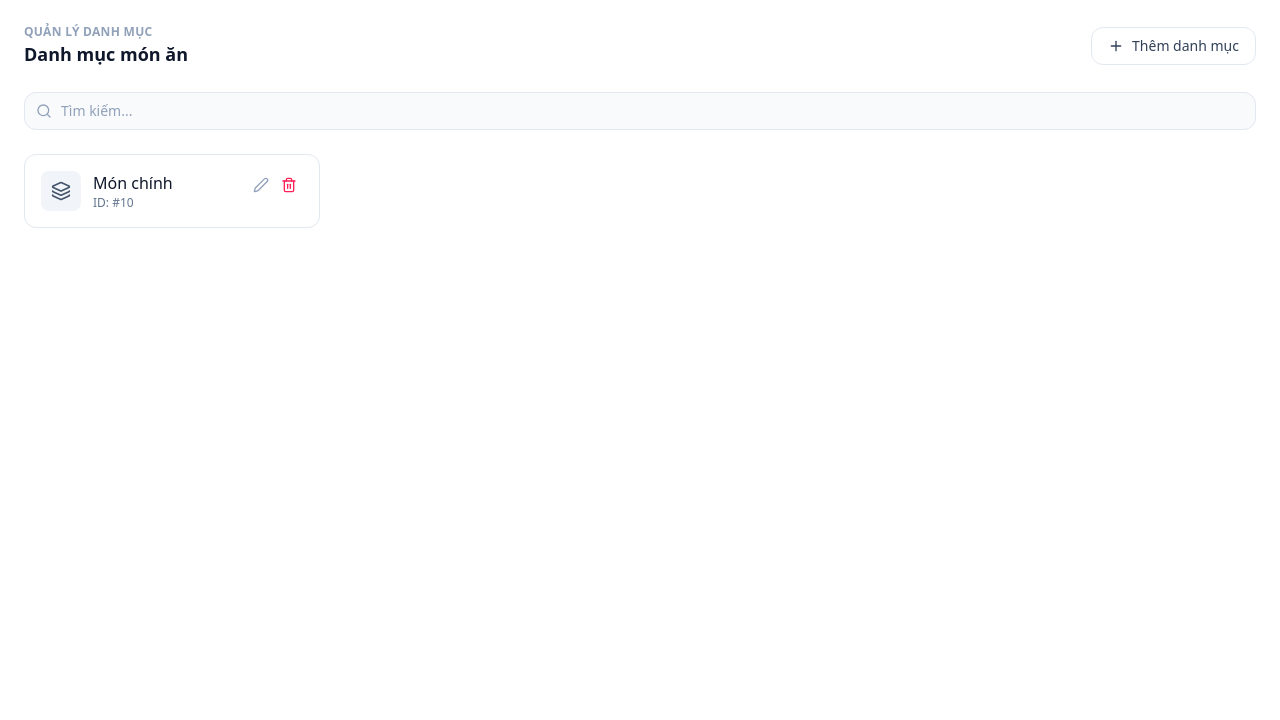
Test case: Integration: Tenant Category Page Flow › deletes a category after confirmation
Expected: the heading "Món chính" is shown, [93,171,173,195]
Click the button titled "Xóa danh mục".
click(289, 185)  # box [275,171,303,199]
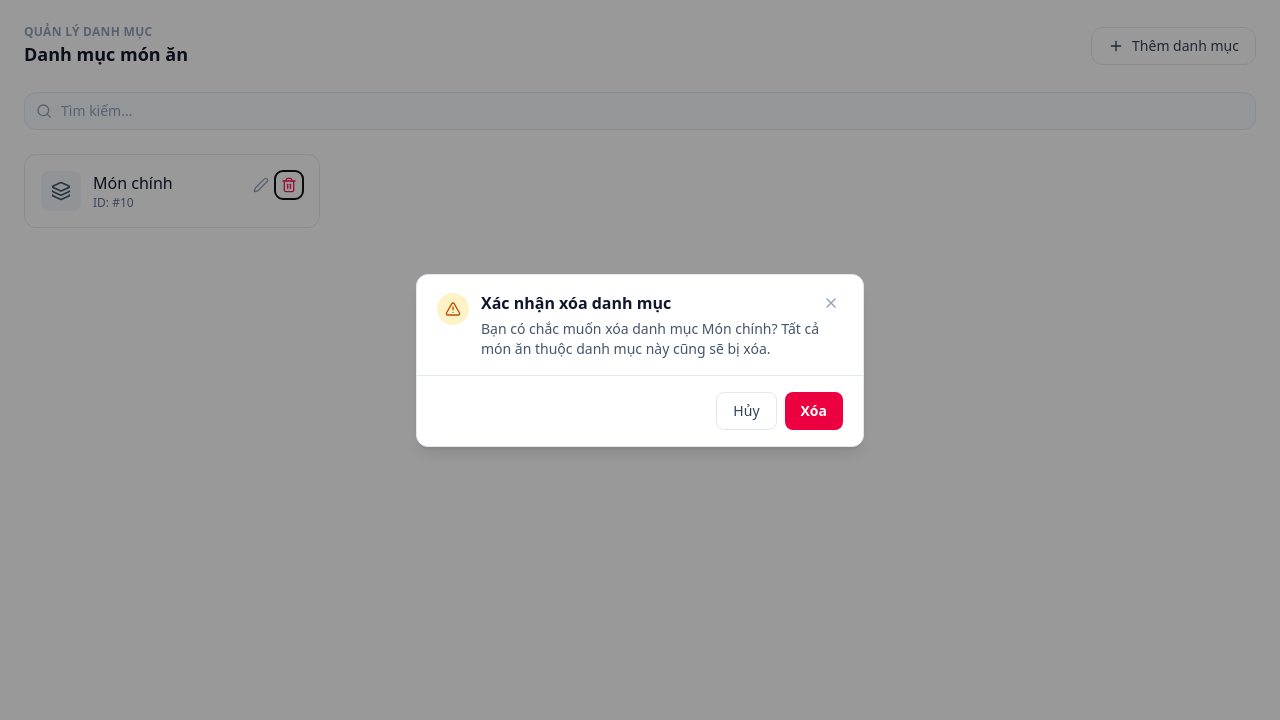
Expected: the heading "Xác nhận xóa danh mục" is shown, [481,292,671,314]
Click the button "Xóa".
click(814, 410)  # box [784,392,843,430]
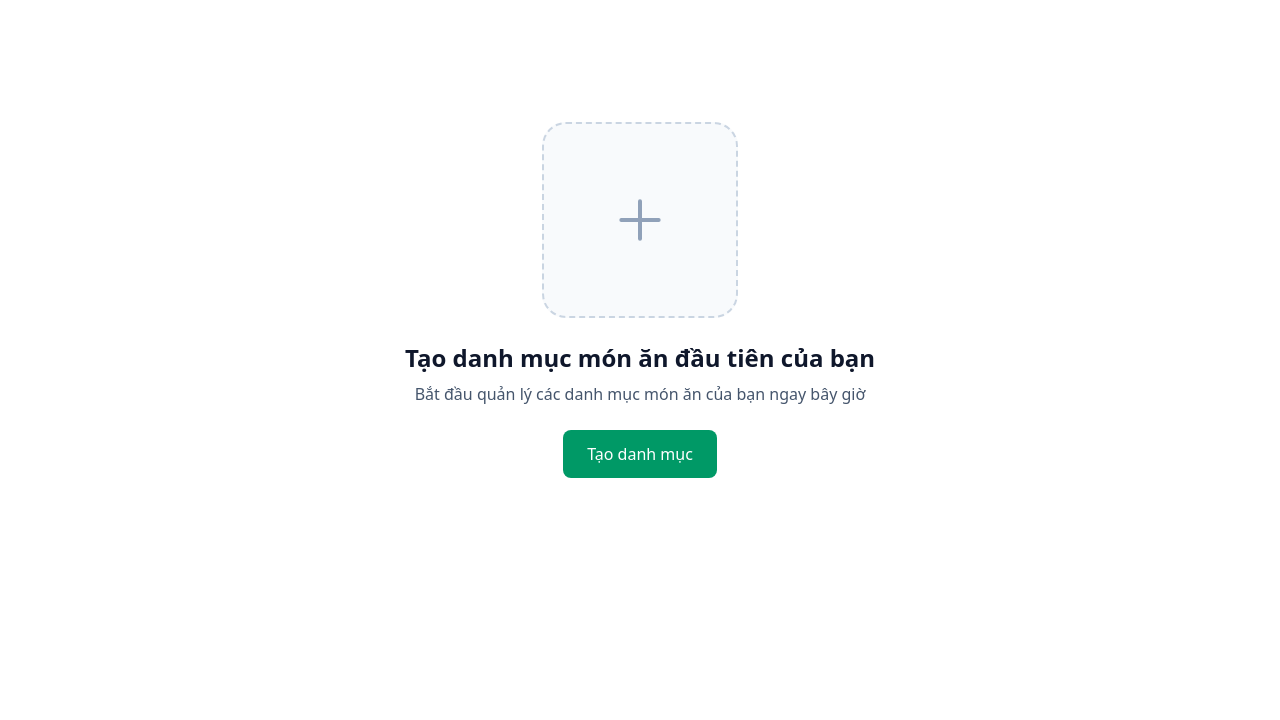
Expected: the heading "Món chính" is gone
